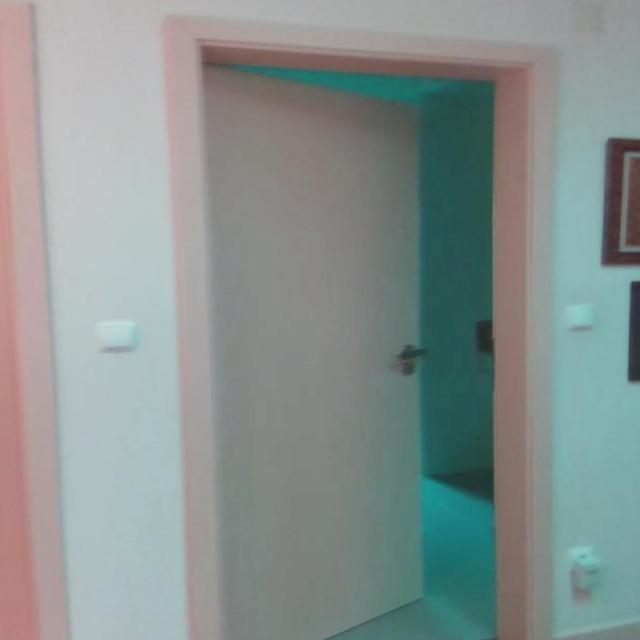door: (190, 11, 433, 640)
